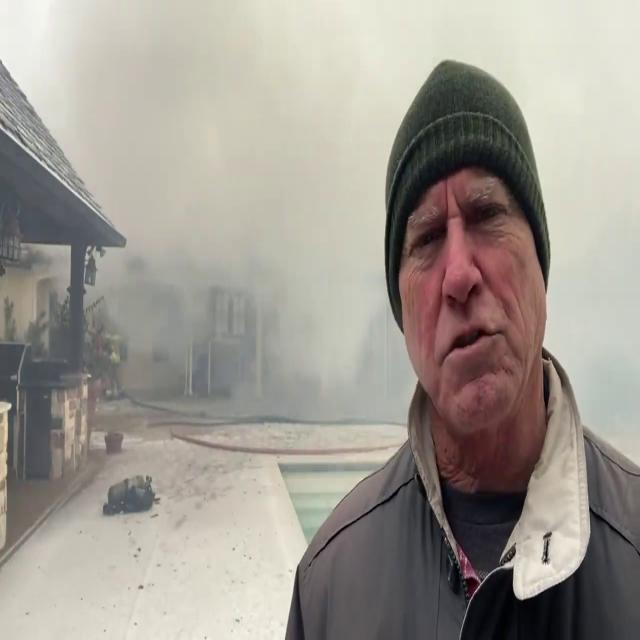Smoke: (98, 1, 424, 500)
